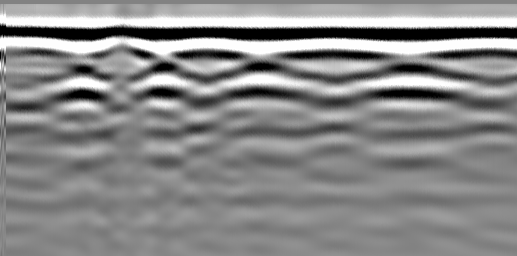steel: (286, 45, 382, 63), (174, 43, 245, 63), (379, 57, 442, 76), (233, 59, 291, 75), (142, 58, 188, 75), (58, 60, 103, 77)
